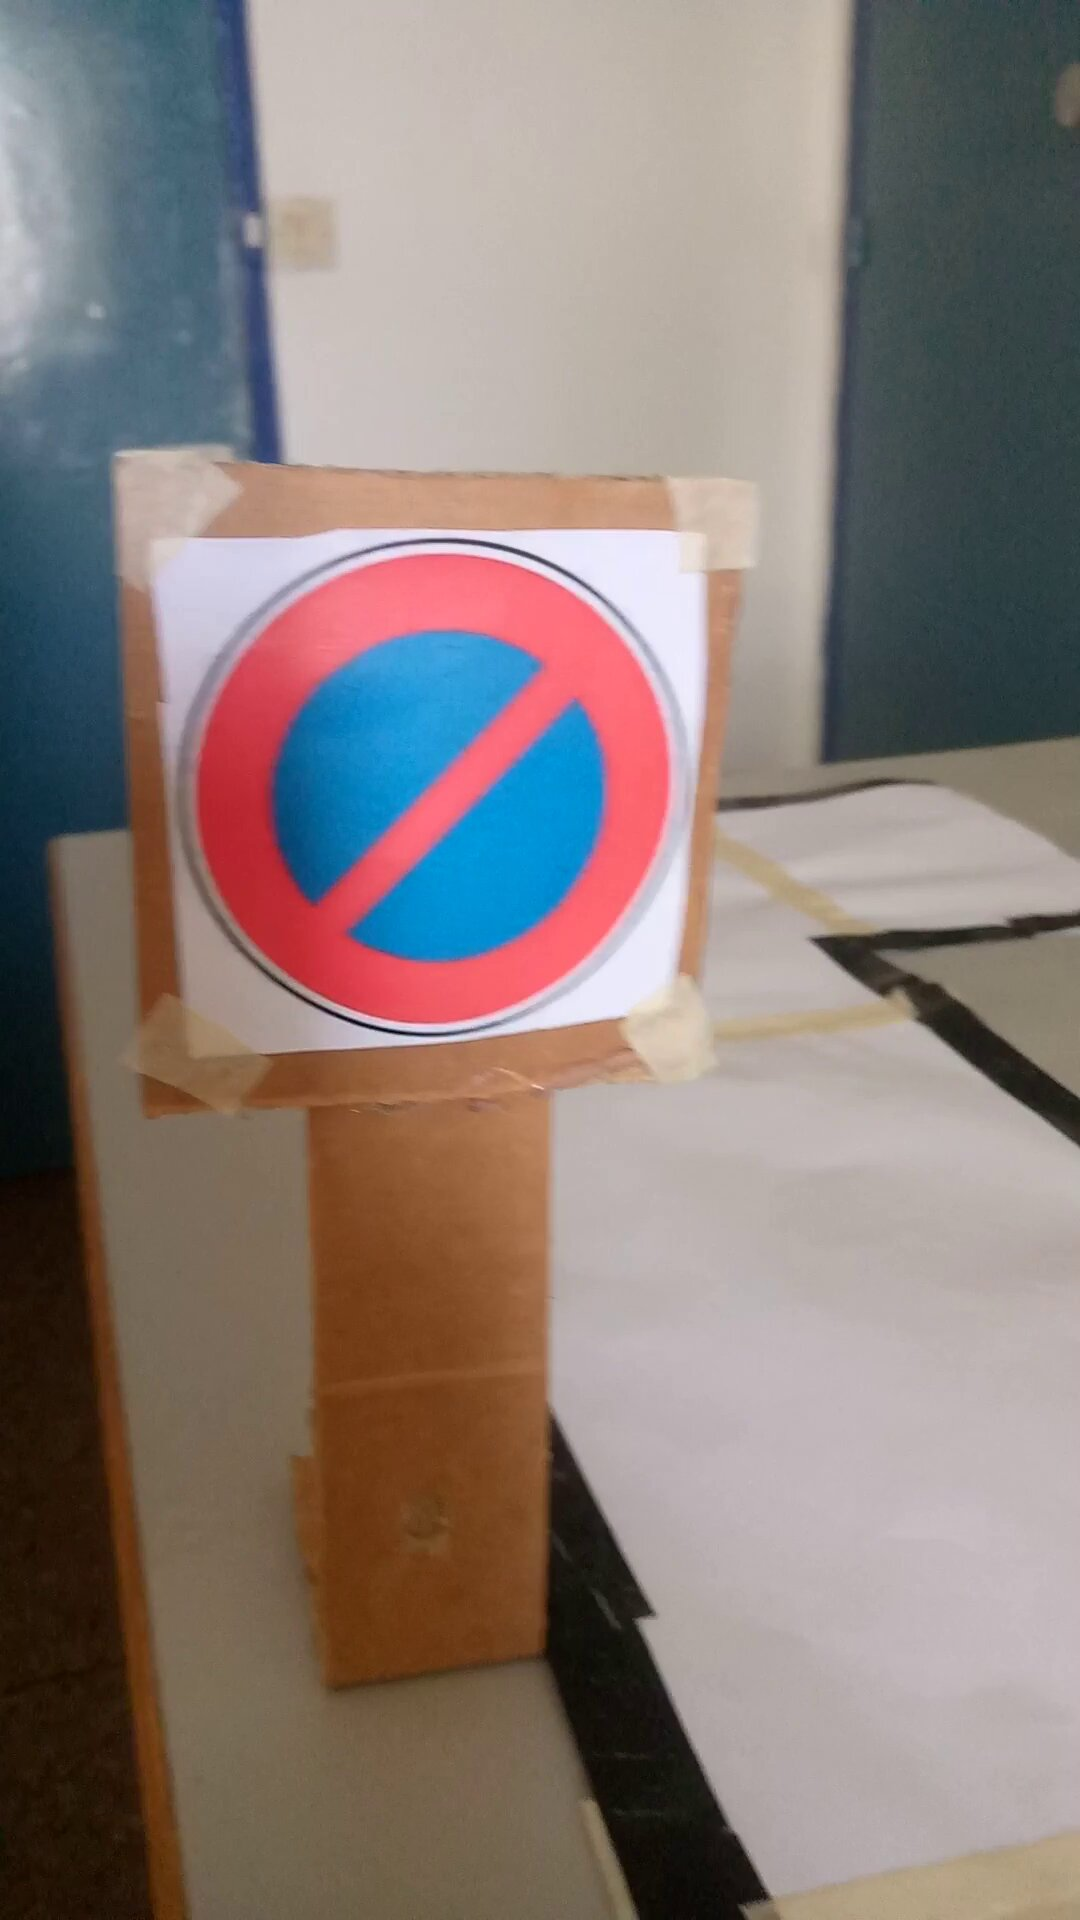panel110: (144, 541, 698, 1034)
